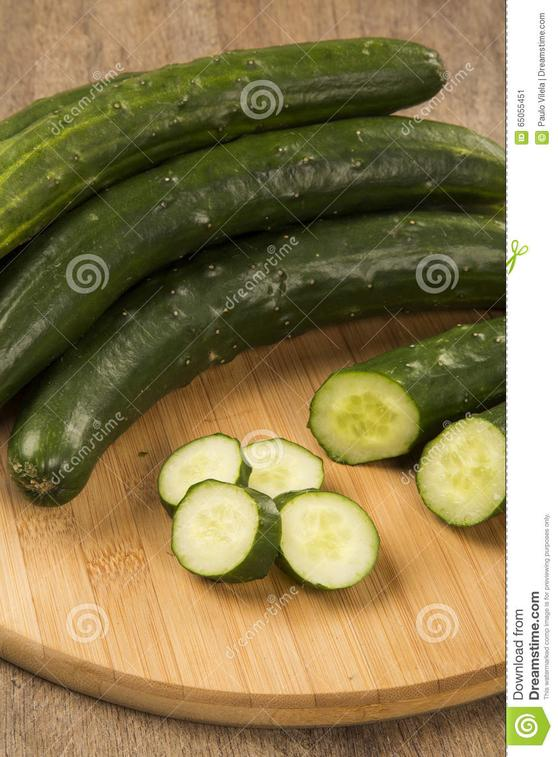cucumber: (6, 212, 502, 489), (6, 114, 498, 378), (5, 41, 445, 239)
